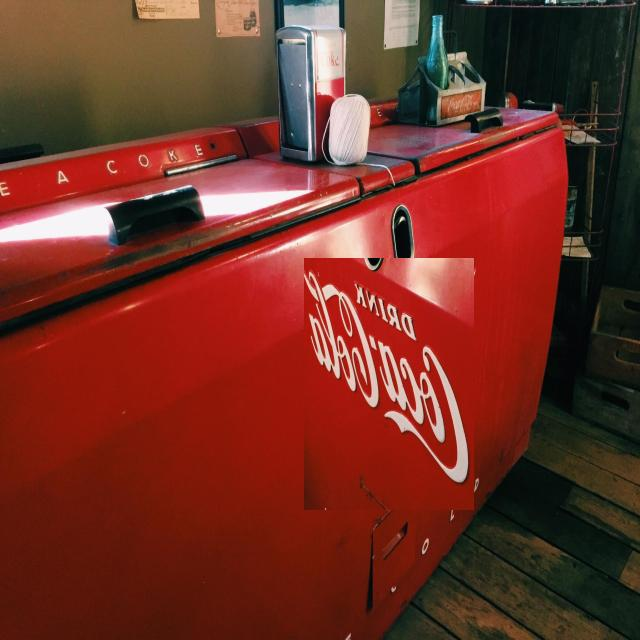coca-cola: (304, 258, 474, 510)
